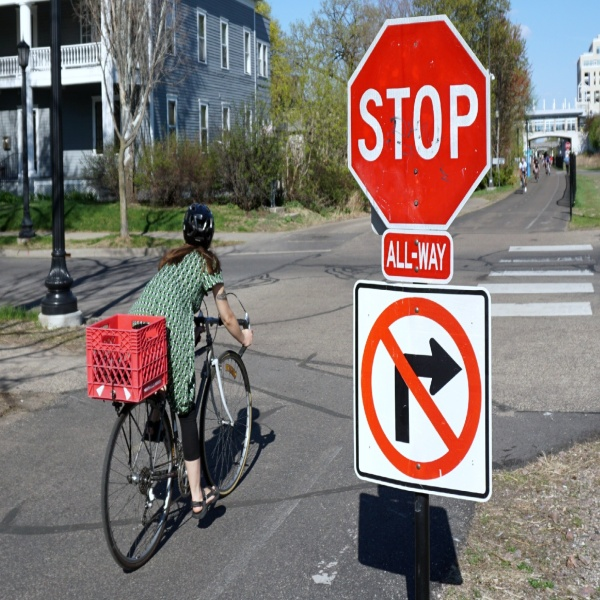stop: (350, 21, 497, 241)
